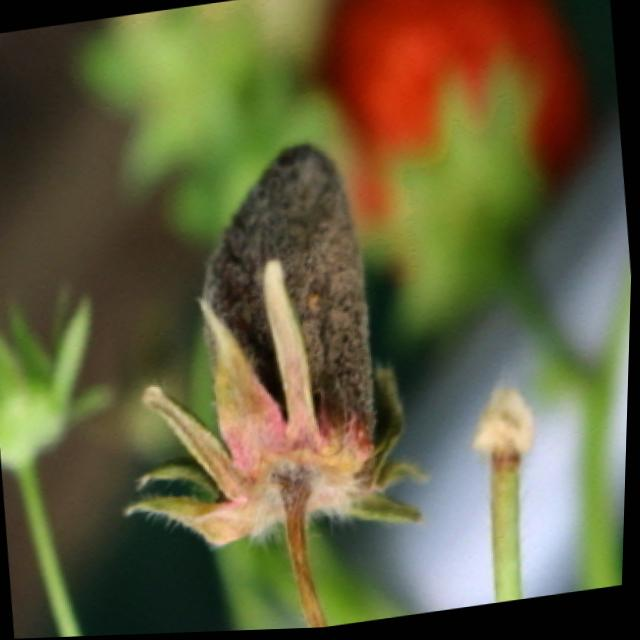Gray Mold: (124, 145, 434, 595)
